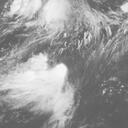cyclone: (16, 55, 77, 115), (19, 1, 78, 34)
